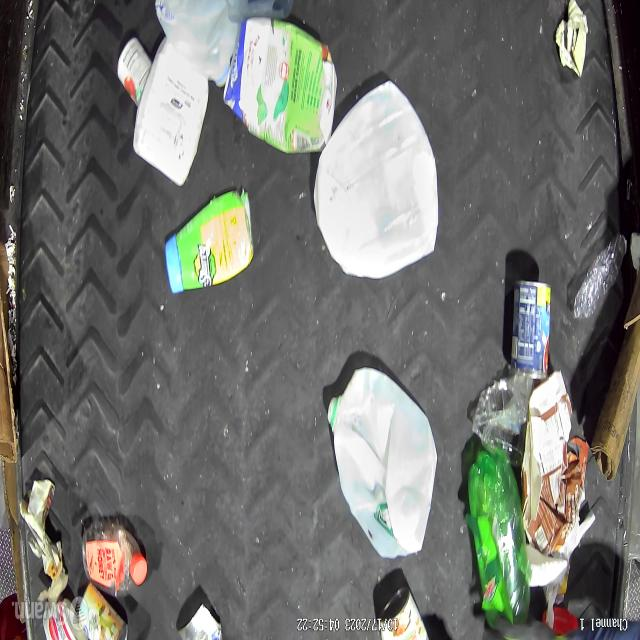can: (509, 278, 552, 382), (77, 584, 129, 640), (379, 585, 431, 638), (176, 601, 224, 640)
milk_jug: (313, 81, 442, 280), (328, 369, 438, 561), (154, 0, 246, 87)
non_white_jug: (220, 17, 336, 154), (162, 186, 254, 294)
plastic_bottle: (572, 231, 626, 323)
